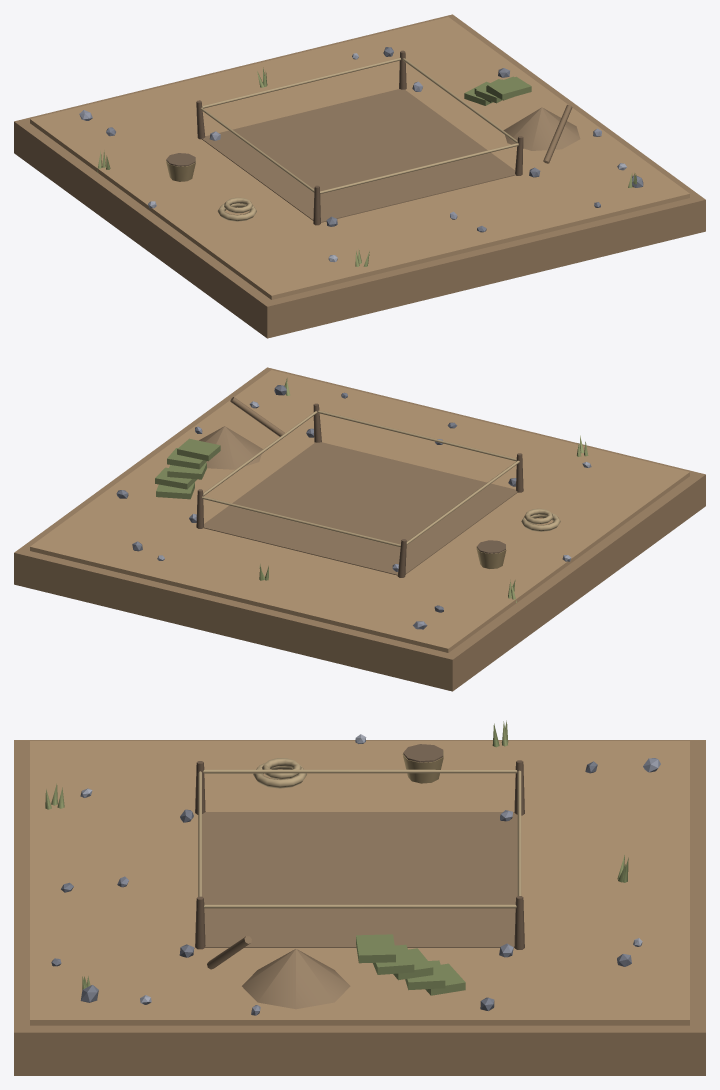
Rendered from num-5-site.glb.
3 renders of one model, top to bottom at view 1: azimuth 30°, elevation 25°; view 2: azimuth 150°, elevation 25°; view 3: azimuth 270°, elevation 25°, orthographic. The views are drawn at different scales.
Parts seen in each view (by area): view 1: era1; view 2: era1; view 3: era1.
Part boxes in pixels (x1,y1,x2,y2): era1: (14,14,705,338); era1: (14,367,705,691); era1: (14,720,705,1075).
Size of the model in its own units: 13 by 2.18 by 13.
